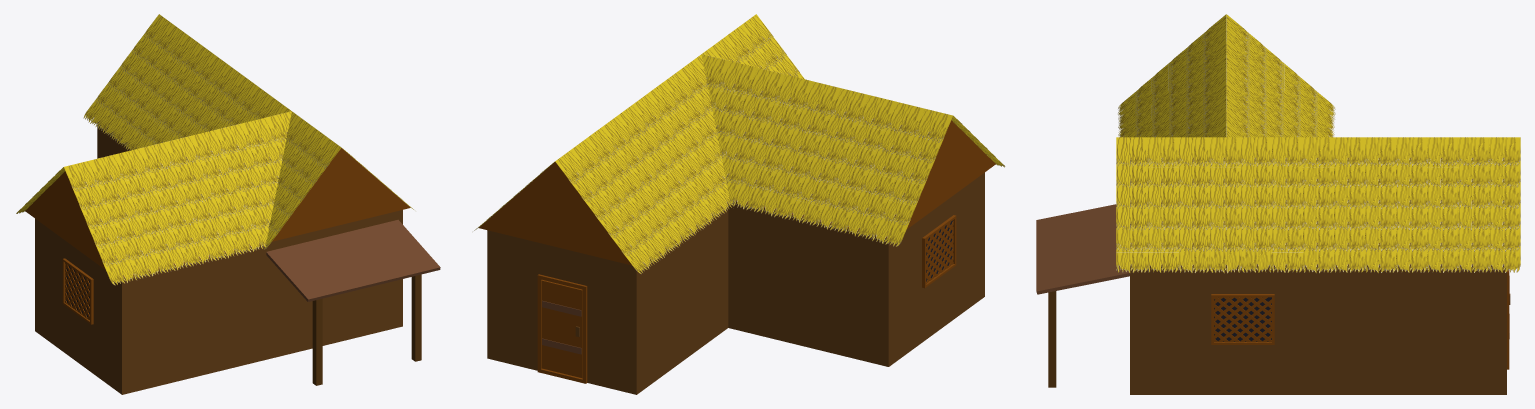
Rendered from хижина.fbx.
3 views of the same model, side by side, from view 1: azimuth 30°, elevation 25°; view 2: azimuth 150°, elevation 25°; view 3: azimuth 270°, elevation 25° (orthographic). The views are drawn at different scales.
Parts seen in each view (by area): view 1: Cube.001; view 2: Cube.001; view 3: Cube.001.
Boxes of the visible parts, x1,y1,x2,y2 form: Cube.001: (16, 14, 440, 394); Cube.001: (474, 14, 1005, 394); Cube.001: (1036, 14, 1520, 394).
Bounding box in the file's own units: 4.05 × 2.56 × 5.01.
